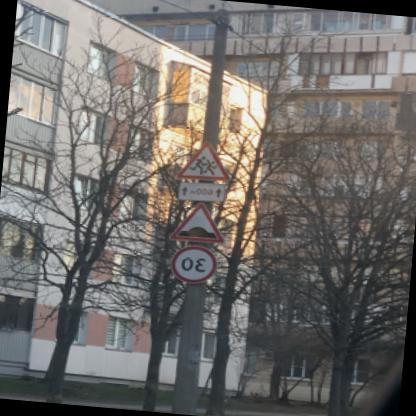speedlimit: (172, 242, 220, 284)
